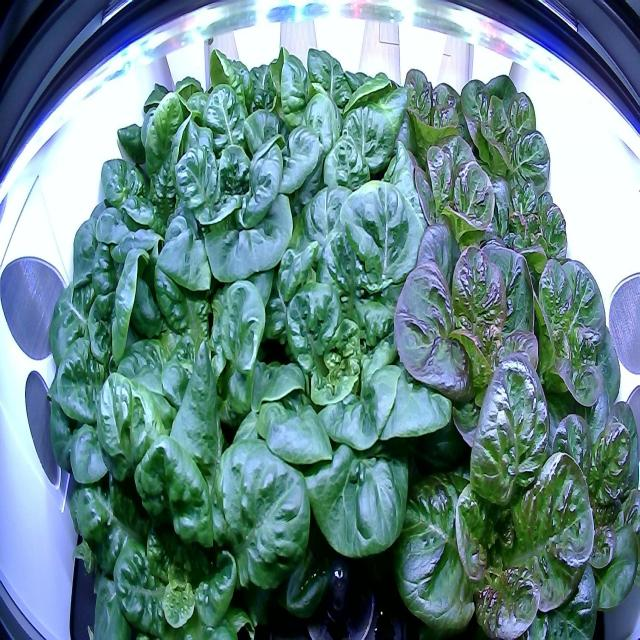Ready: (237, 176, 465, 572), (380, 343, 606, 640), (106, 250, 316, 522), (69, 428, 308, 639), (34, 278, 198, 574), (384, 219, 562, 482), (63, 91, 222, 350), (157, 82, 323, 320), (520, 349, 640, 638), (268, 94, 431, 289), (496, 239, 628, 444), (110, 45, 224, 219), (266, 36, 412, 168), (392, 131, 511, 286), (472, 126, 578, 296), (174, 24, 298, 163), (450, 62, 554, 209), (388, 57, 488, 201)
